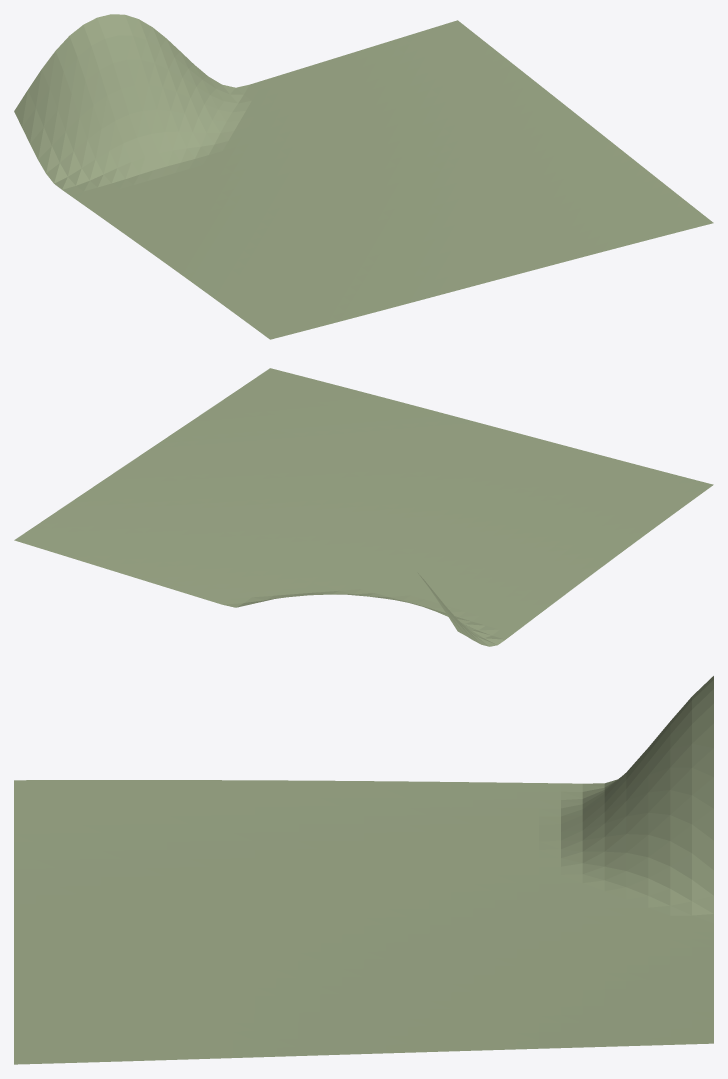
Rendered from expanse-15-20.glb.
3 views of the same model, one above another, from view 1: azimuth 30°, elevation 25°; view 2: azimuth 150°, elevation 25°; view 3: azimuth 270°, elevation 25° (orthographic). The views are drawn at different scales.
Parts seen in each view (by area): view 1: expanse-15-20; view 2: expanse-15-20; view 3: expanse-15-20.
Part boxes in pixels (x1,y1,x2,y2): expanse-15-20: [14, 14, 713, 339]; expanse-15-20: [14, 368, 713, 646]; expanse-15-20: [14, 676, 713, 1064].
Bounding box in the file's own units: 256 × 64.39 × 256.
